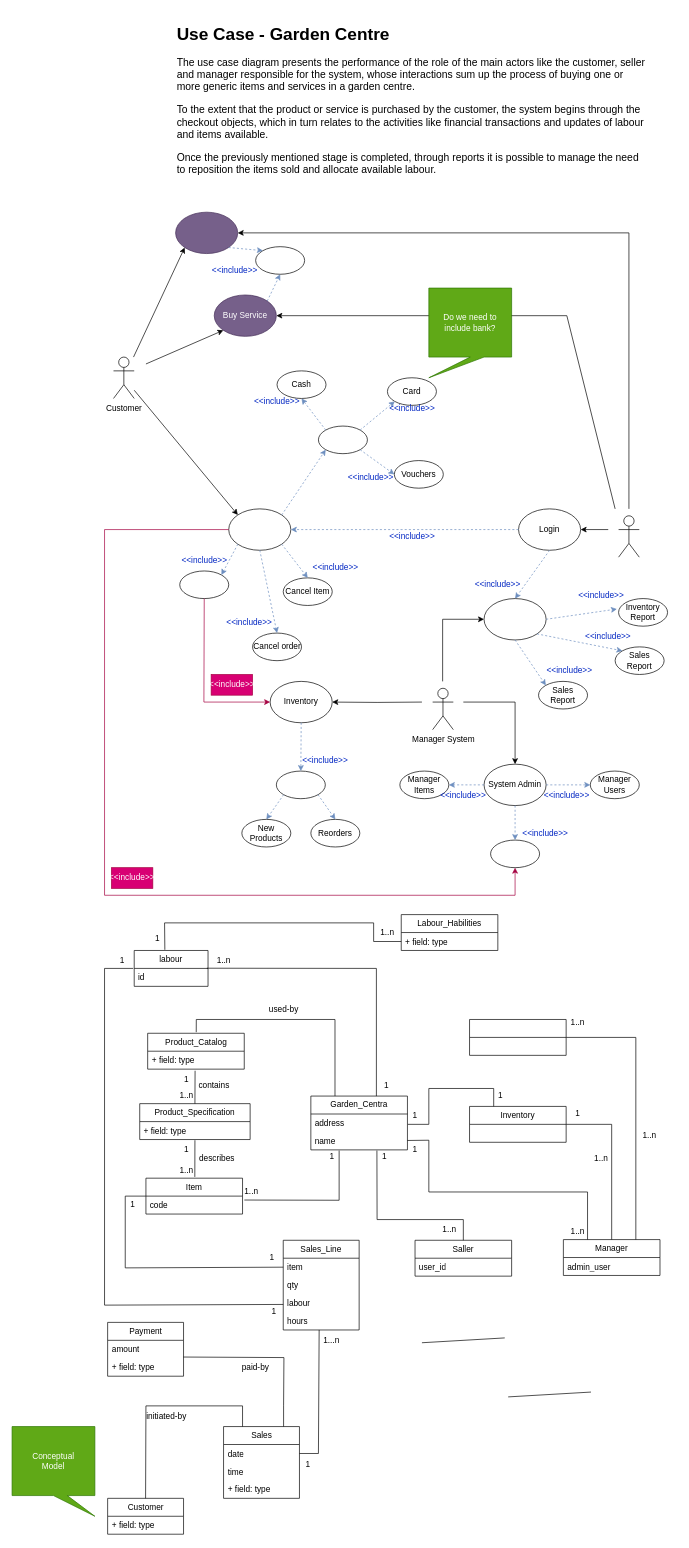
Some shapes in this 689 by 1548 pixel diagram are drawn without their labels. Each missing label, with the centre of its shape:
"Buy Items" goes at pixel 206 232.
"Checkout" goes at pixel 259 529.
"Make Payment" goes at pixel 342 439.
"Make Reports" goes at pixel 514 619.
"Manager Labor" goes at pixel 515 853.
"Purchase" goes at pixel 300 784.
"Reports" goes at pixel 517 1037.
"Seller" goes at pixel 628 536.
"Update inventory" goes at pixel 204 584.
"Vouchers Points" goes at pixel 280 260.
